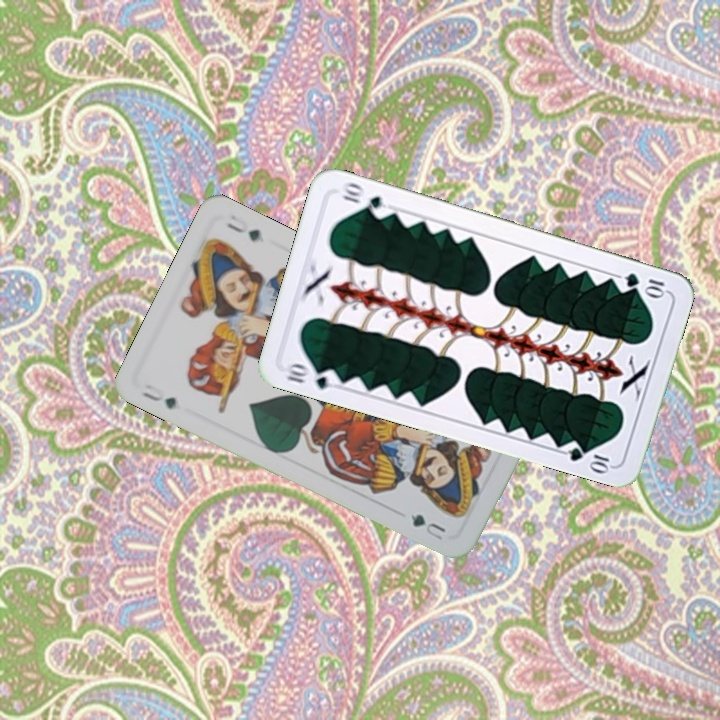G10: (281, 359, 342, 392), (620, 268, 669, 299)
GU: (136, 387, 179, 412)
